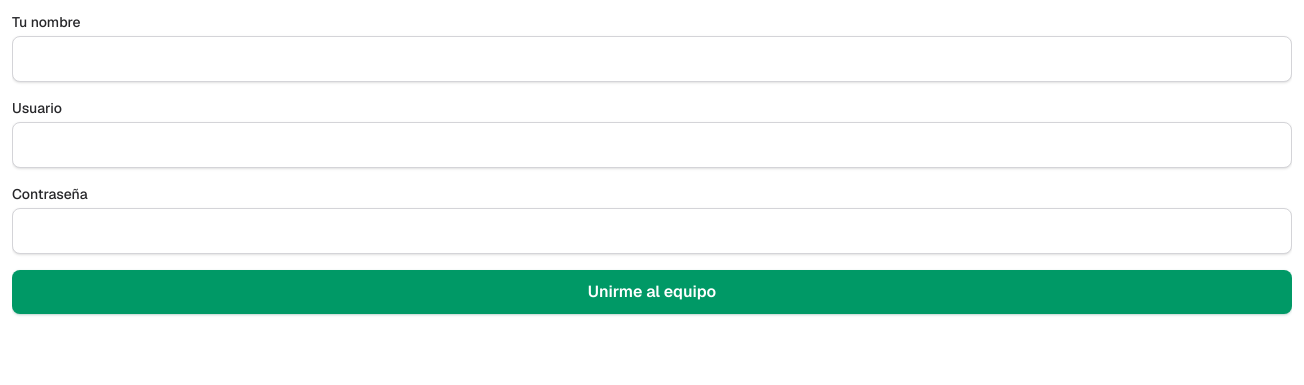
Test: AcceptInvitationForm › manda los datos con el token de la invitación
Type "Leo" into the field labelled "Tu nombre" at (652, 59), box [12, 36, 1292, 82]
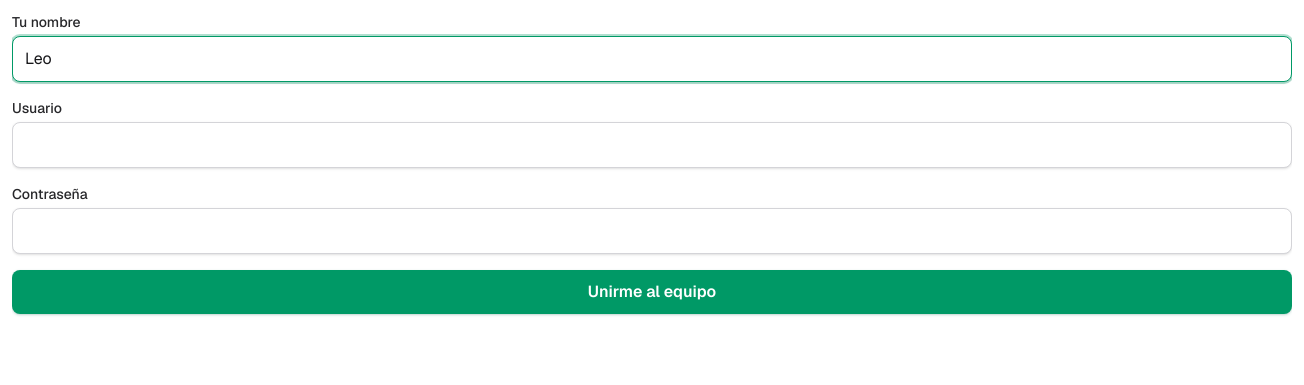
Type "leo" into the field labelled "Usuario" at (652, 145), box [12, 122, 1292, 168]
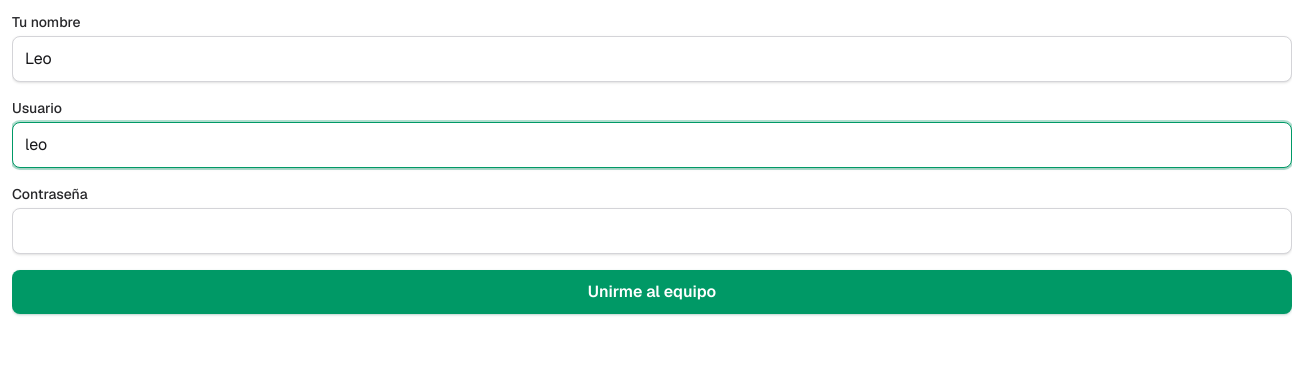
Type "segura-123" into the password field labelled "Contraseña" at (652, 231), box [12, 208, 1292, 254]
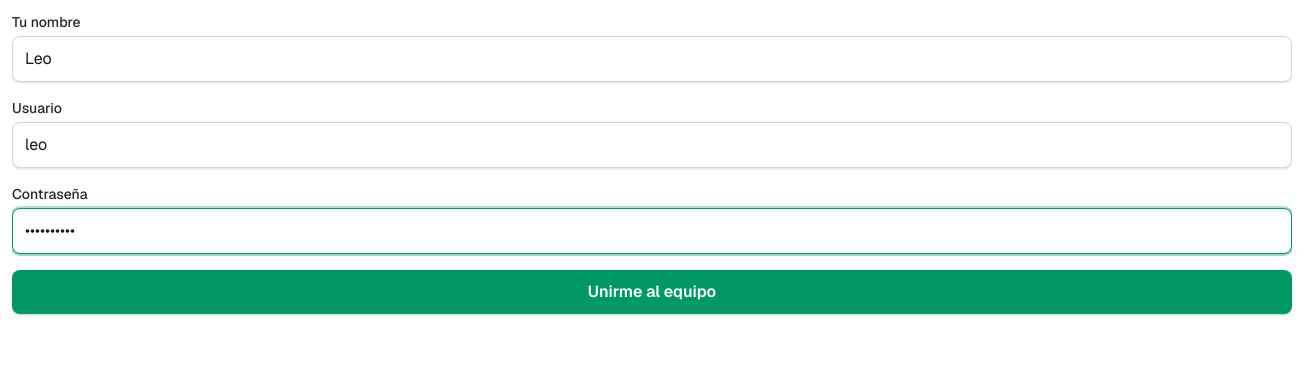
Click the button "Unirme al equipo" at (652, 292), box [12, 270, 1292, 314]
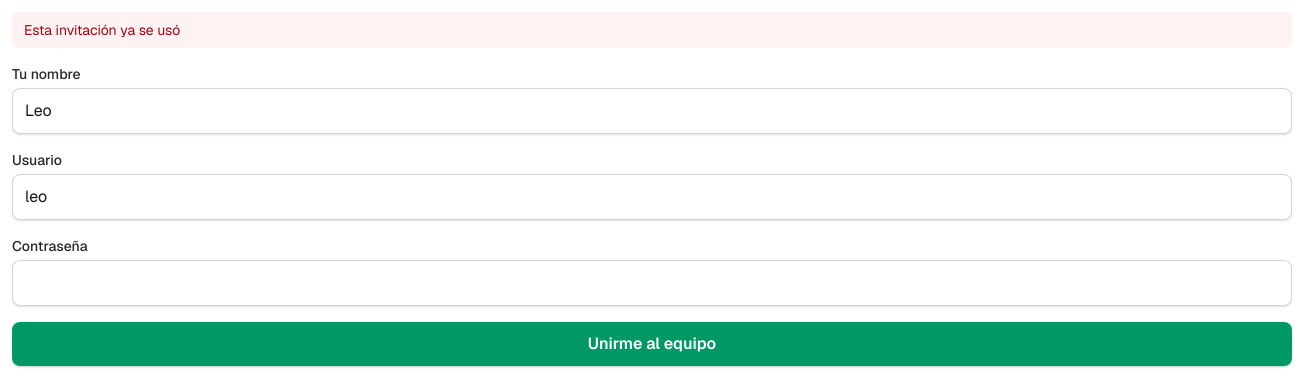
Result: the message reads "Esta invitación ya se usó" at [24, 21, 180, 39]
